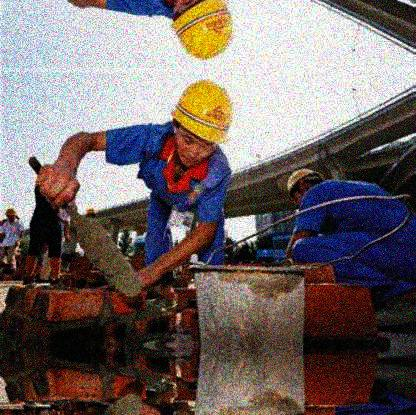helmet: (173, 78, 235, 167), (285, 169, 325, 206), (4, 208, 17, 221)
